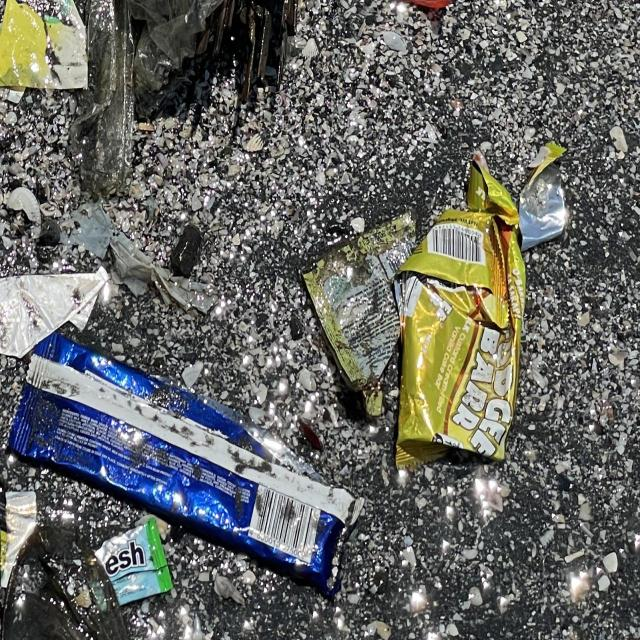litter: (3, 333, 358, 601), (390, 157, 528, 467), (0, 0, 88, 89), (94, 516, 175, 606)
